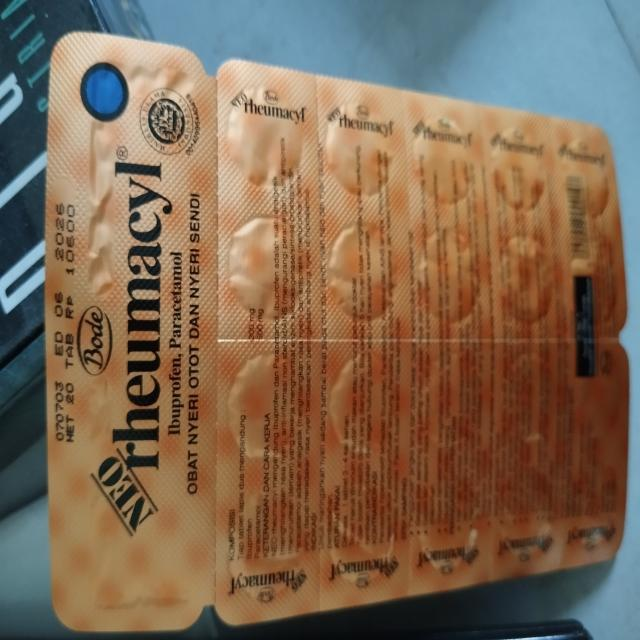B3: (50, 32, 628, 631)
